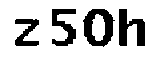0: (80, 6, 116, 55)
5: (47, 4, 77, 49)
h: (117, 7, 150, 50)
z: (14, 17, 43, 51)
